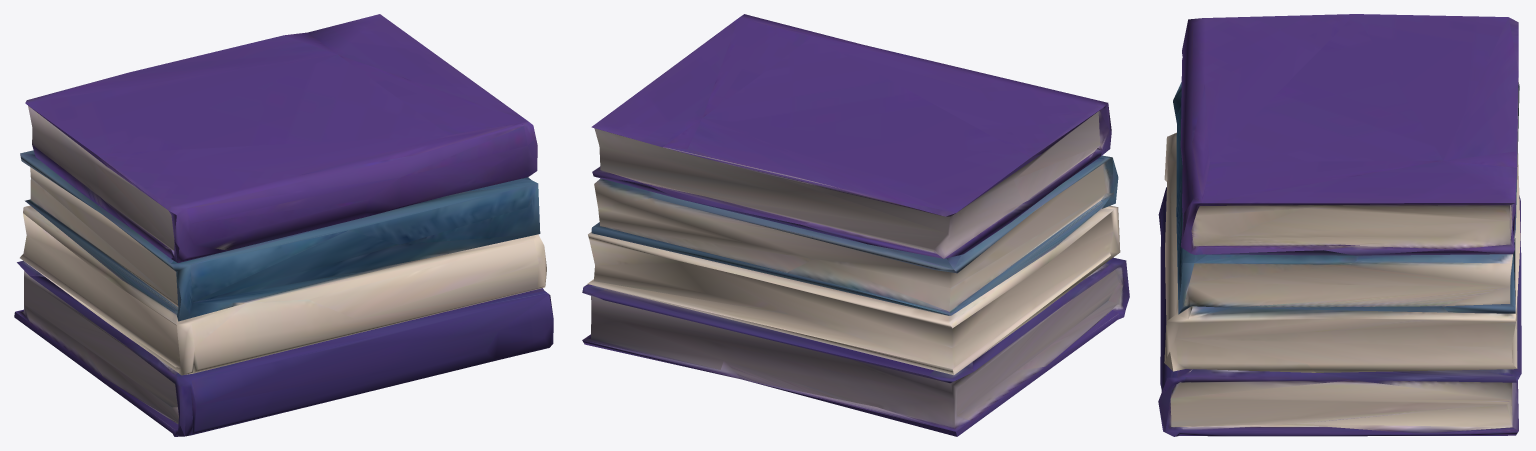
The model's file is books.glb.
3 renders of one model, left to right at view 1: azimuth 30°, elevation 25°; view 2: azimuth 150°, elevation 25°; view 3: azimuth 270°, elevation 25°, orthographic. The views are drawn at different scales.
Visible parts, largest first — view 1: books; view 2: books; view 3: books.
Boxes of the visible parts, x1,y1,x2,y2 form: books: (14, 14, 553, 436); books: (582, 14, 1129, 436); books: (1158, 14, 1521, 436).
Size of the model in its own units: 0.22 by 0.1228 by 0.1737.
1 material, 1 textured.
